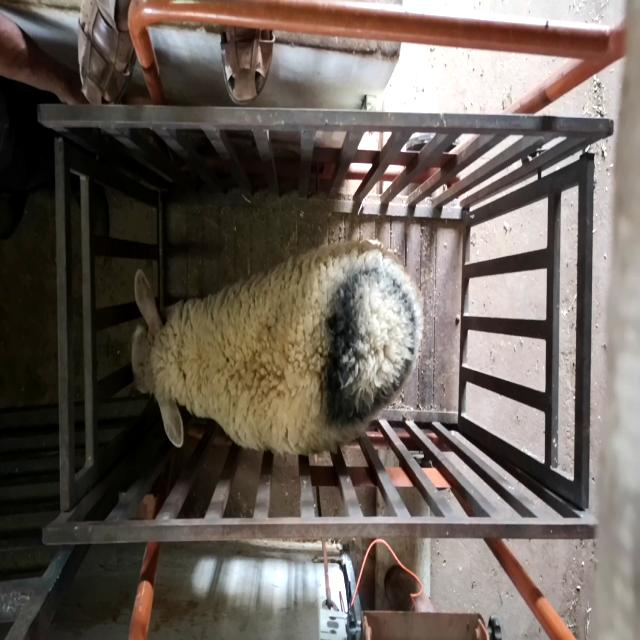sheep: (131, 240, 424, 457)
